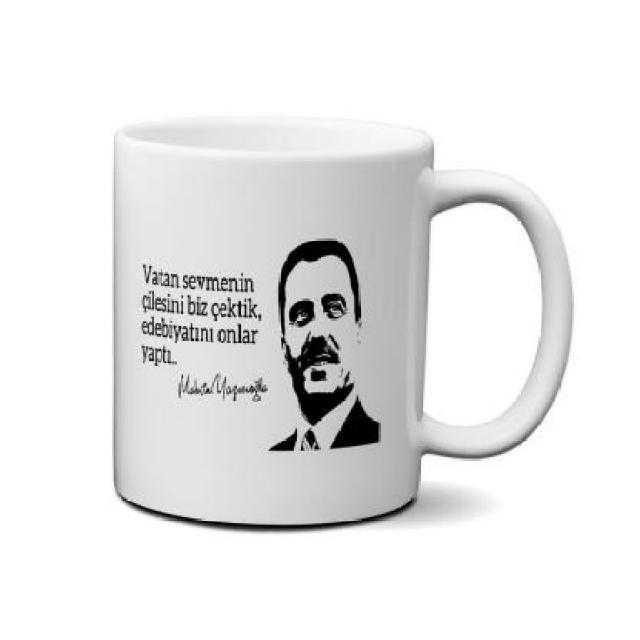taza: (109, 116, 578, 534)
